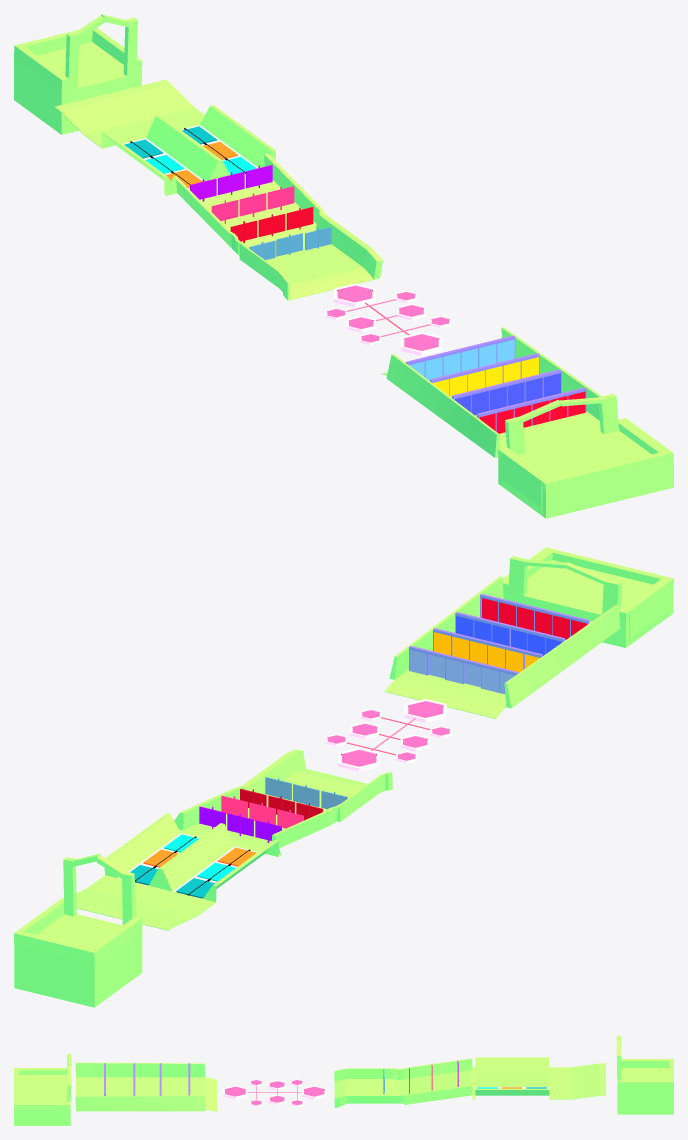
The model's file is Level.fbx.
3 views of the same model, one above another, from view 1: azimuth 30°, elevation 25°; view 2: azimuth 150°, elevation 25°; view 3: azimuth 270°, elevation 25° (orthographic). The views are drawn at different scales.
Parts seen in each view (by area): view 1: pPlane2, pCube52, pCube51, pPlane1, polySurface4, polySurface11; view 2: pPlane2, pCube51, pCube52, pPlane1, polySurface4, polySurface11, polySurface8, polySurface10, polySurface9; view 3: pPlane2, pPlane1, pCube52, pCube51, polySurface4.
Part boxes in pixels (x1,y1,x2,y2): pPlane2: (55, 79, 382, 300); pCube52: (497, 394, 673, 518); pCube51: (14, 14, 142, 134); pPlane1: (382, 327, 601, 457); polySurface4: (325, 283, 450, 355); polySurface11: (406, 335, 515, 377); pPlane2: (76, 749, 392, 930); pCube51: (14, 853, 142, 1007); pCube52: (502, 547, 673, 647); pPlane1: (384, 576, 620, 718); polySurface4: (326, 699, 451, 771); polySurface11: (409, 645, 518, 692); polySurface8: (455, 612, 564, 654); polySurface10: (433, 628, 542, 669); polySurface9: (480, 593, 589, 636); pPlane2: (334, 1057, 605, 1107); pPlane1: (75, 1062, 217, 1111); pCube52: (14, 1054, 71, 1125); pCube51: (616, 1036, 673, 1114); polySurface4: (222, 1079, 326, 1106).
Size of the model in its own units: 119 by 102 by 891.
